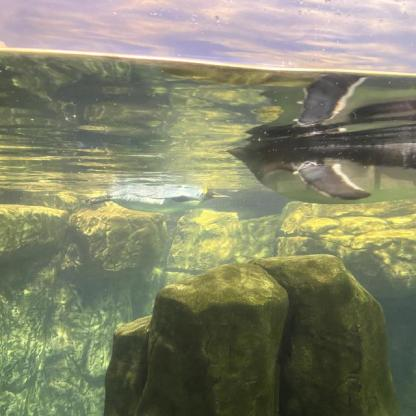penguin: (224, 120, 416, 204), (84, 187, 233, 213)
